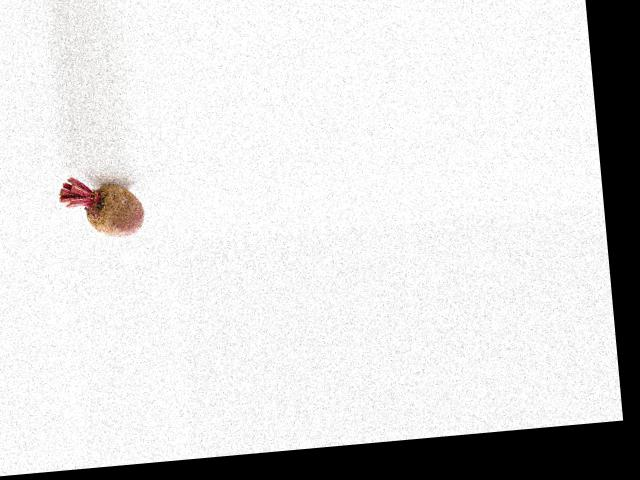beet: (57, 170, 146, 242)
